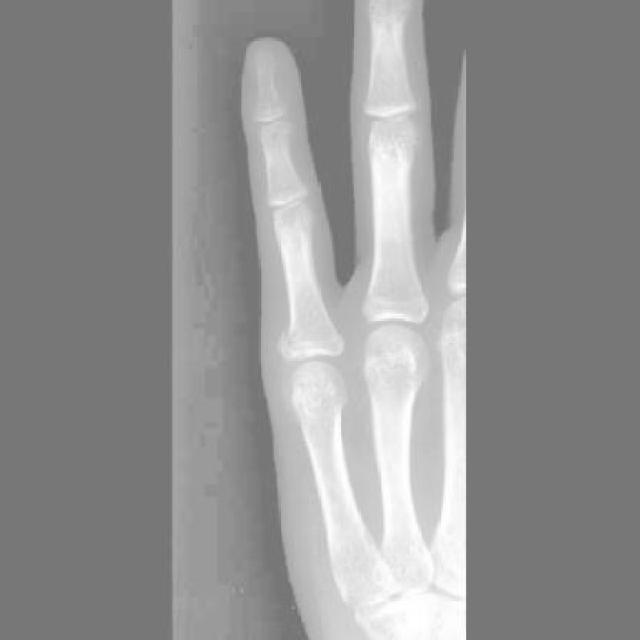bone: (275, 322, 343, 356)
